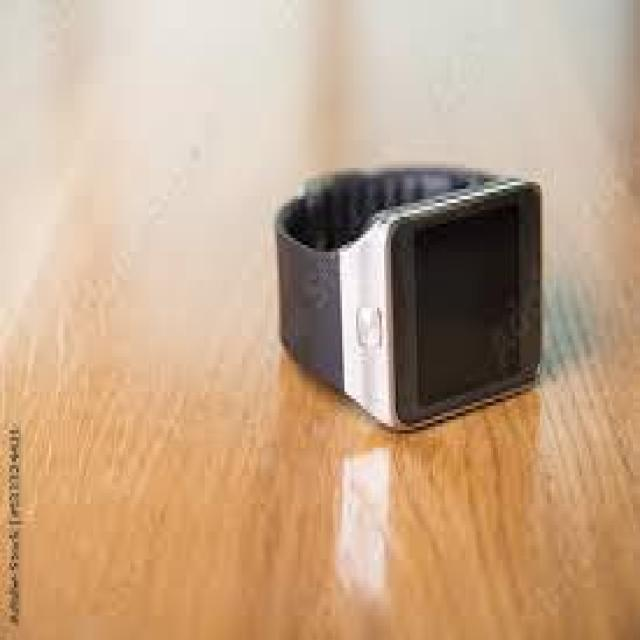watch: (236, 141, 567, 526)
